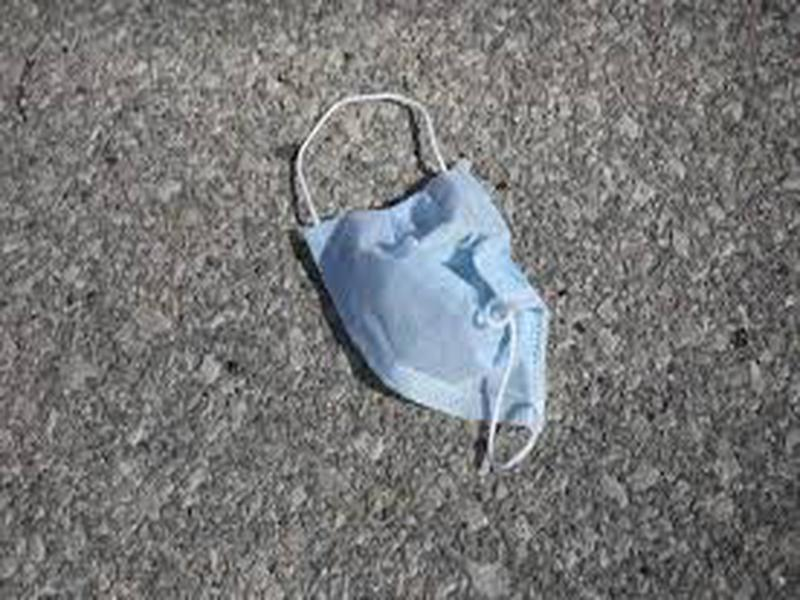mask: (263, 89, 577, 478)
